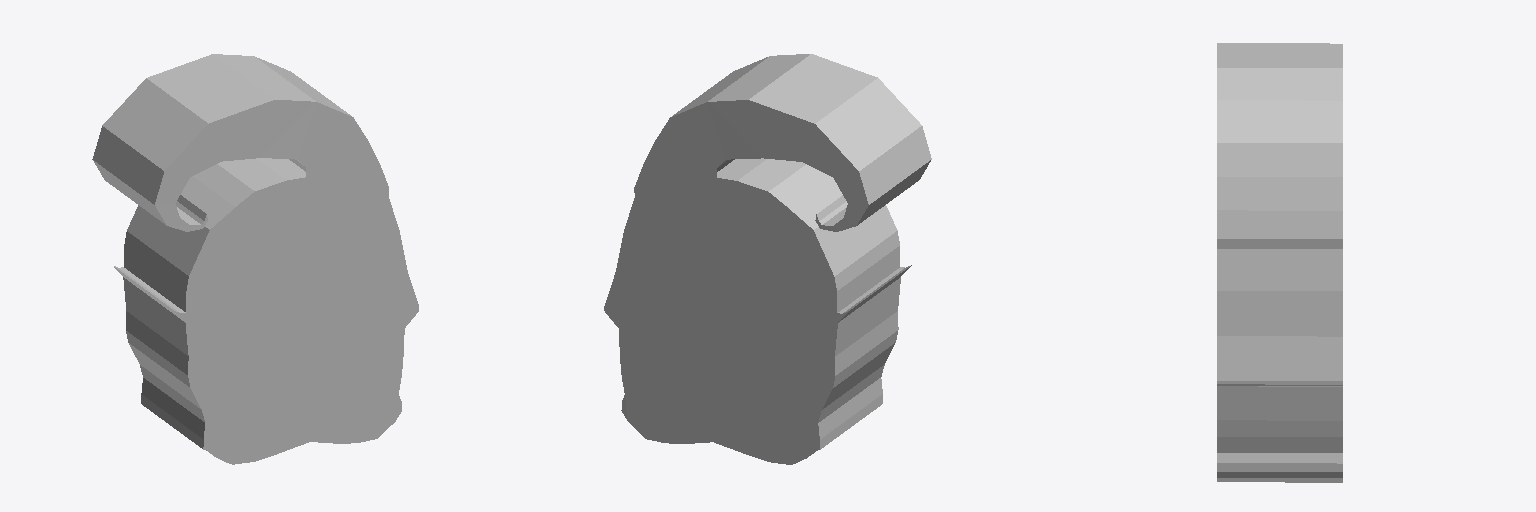
The model's file is mollymaukHead.obj.
3 renders of one model, left to right at view 1: azimuth 30°, elevation 25°; view 2: azimuth 150°, elevation 25°; view 3: azimuth 270°, elevation 25°, orthographic.
Visible parts, largest first — view 1: Cube.001_Cube.004; view 2: Cube.001_Cube.004; view 3: Cube.001_Cube.004.
Part boxes in pixels (bbox=[...]): Cube.001_Cube.004: bbox=[92, 54, 418, 464]; Cube.001_Cube.004: bbox=[604, 54, 931, 464]; Cube.001_Cube.004: bbox=[1217, 43, 1342, 482].
Size of the model in its own units: 0.5037 by 0.6616 by 0.2066.